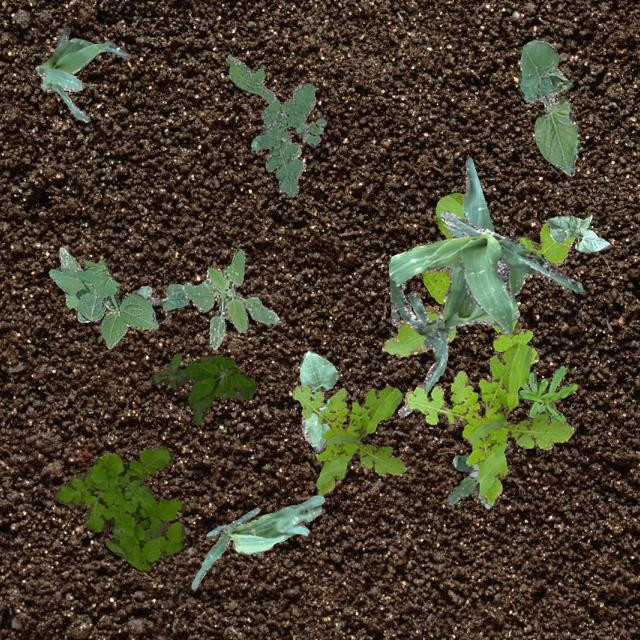crop: (396, 157, 520, 416), (388, 210, 582, 334), (190, 494, 324, 588), (34, 26, 128, 120), (516, 39, 578, 174), (298, 349, 336, 452), (546, 214, 610, 252), (136, 282, 188, 310)
weed: (381, 192, 574, 362), (403, 342, 572, 504), (54, 444, 182, 570), (226, 55, 326, 196), (292, 384, 406, 494), (180, 248, 280, 348), (48, 258, 158, 348), (150, 352, 256, 423), (57, 244, 111, 322), (516, 363, 576, 422), (447, 453, 492, 508)
